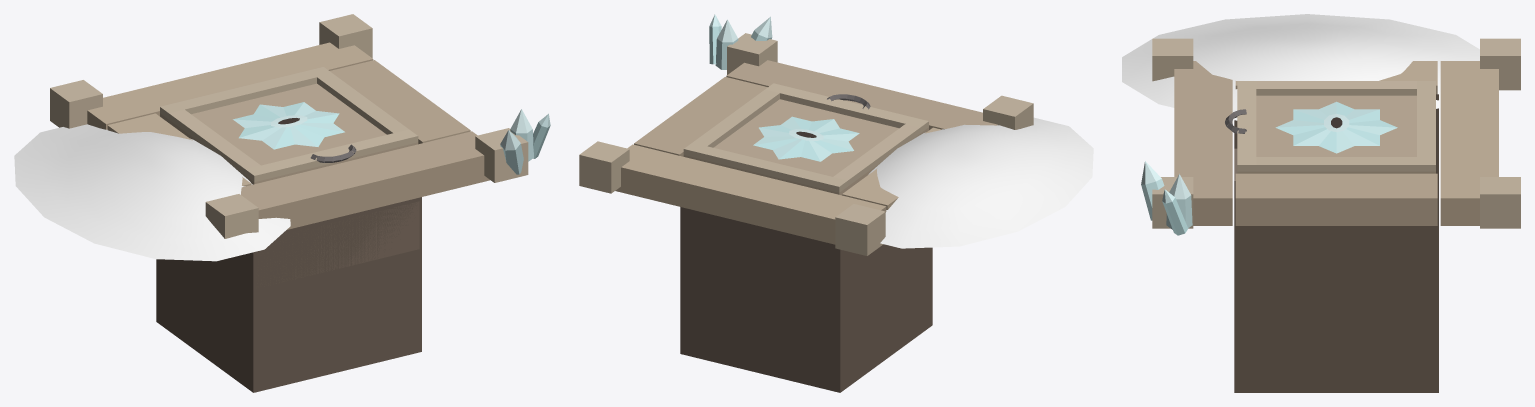
File: trampilla.glb
3 views of the same model, side by side, from view 1: azimuth 30°, elevation 25°; view 2: azimuth 150°, elevation 25°; view 3: azimuth 270°, elevation 25° (orthographic). The views are drawn at different scales.
Parts seen in each view (by area): view 1: trampilla, trampilla_arena, trampilla_tapa; view 2: trampilla, trampilla_arena, trampilla_tapa; view 3: trampilla, trampilla_tapa, trampilla_arena.
Part boxes in pixels (x1,y1,x2,y2): trampilla: [50, 14, 550, 392]; trampilla_arena: [14, 124, 290, 261]; trampilla_tapa: [160, 67, 418, 184]; trampilla: [579, 14, 1033, 392]; trampilla_arena: [868, 117, 1093, 248]; trampilla_tapa: [683, 83, 928, 195]; trampilla: [1141, 38, 1520, 392]; trampilla_tapa: [1225, 81, 1435, 173]; trampilla_arena: [1122, 14, 1479, 120].
Size of the model in its own units: 3.65 by 1.94 by 2.73.
